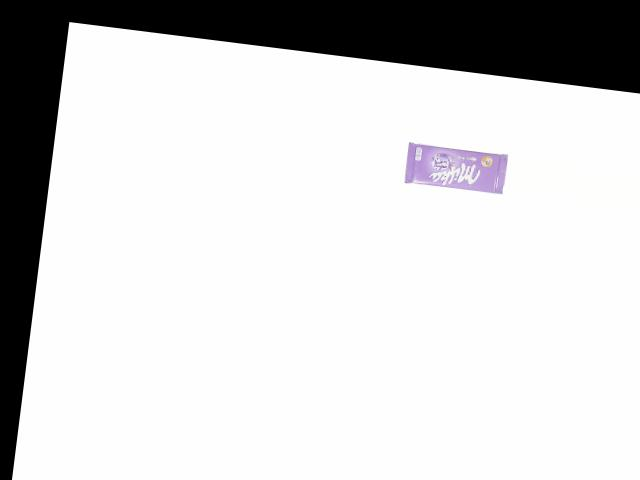chocolate: (398, 136, 509, 197)
